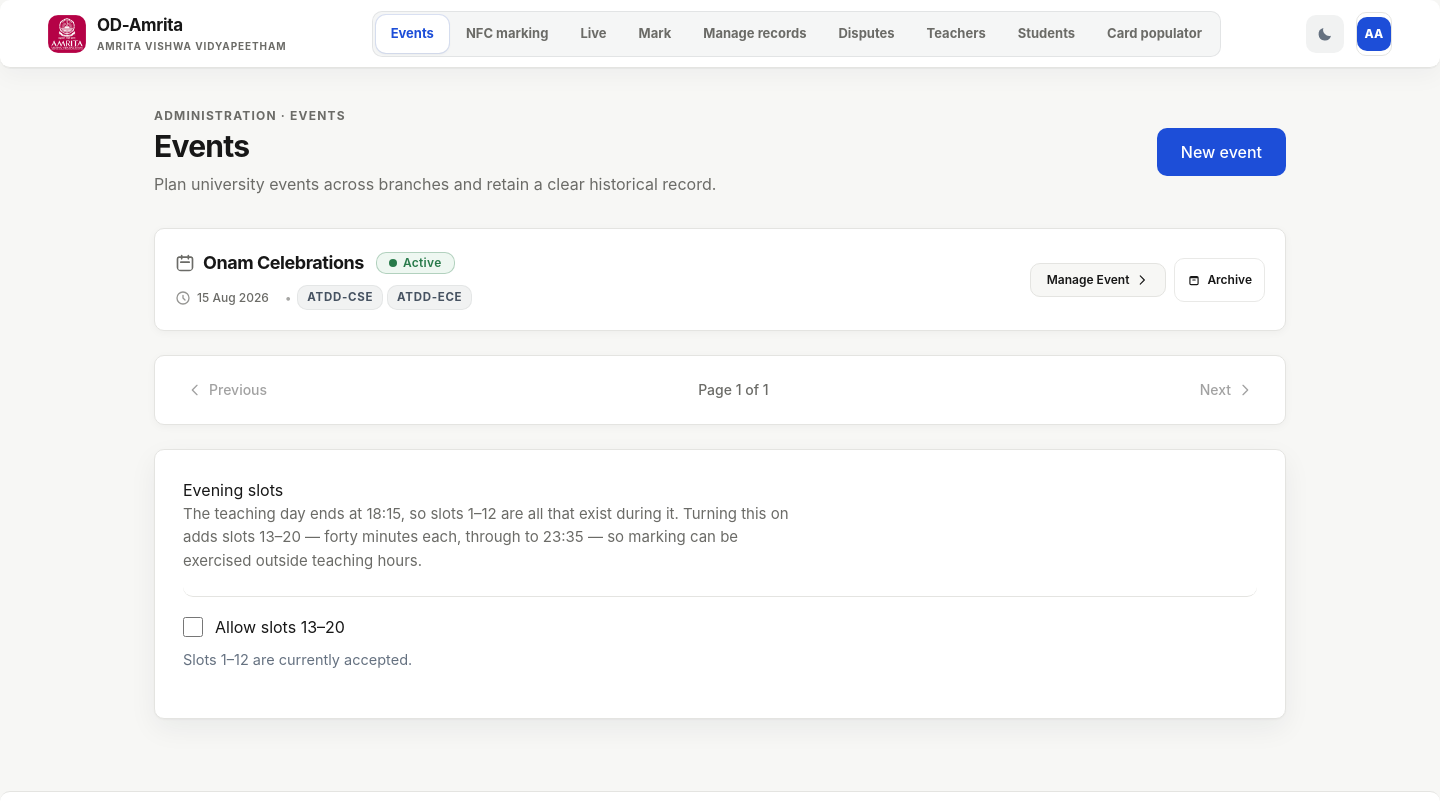
Test case: Admin event detail coordinator assignments › [P0] assigns a provisioned student by email and shows the row without a reload
This screenshot has width=1440, height=810.
Step 1. Click the link "Onam Celebrations" → coordinates (269, 263), box [175,249,364,277]
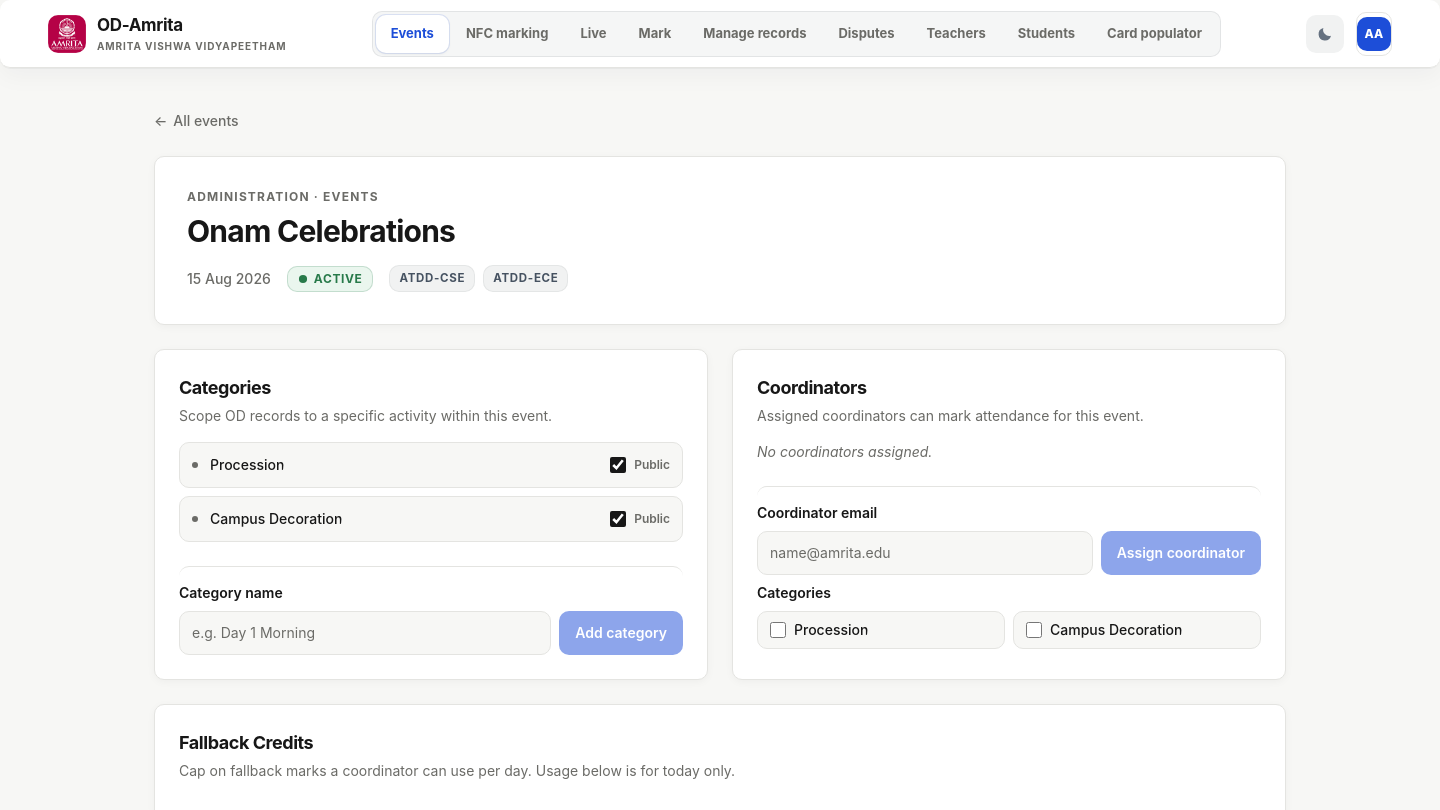
Step 2. Type "candidate@amrita.edu" into the field labelled "Coordinator email" → coordinates (925, 553), box [757,531,1093,575]
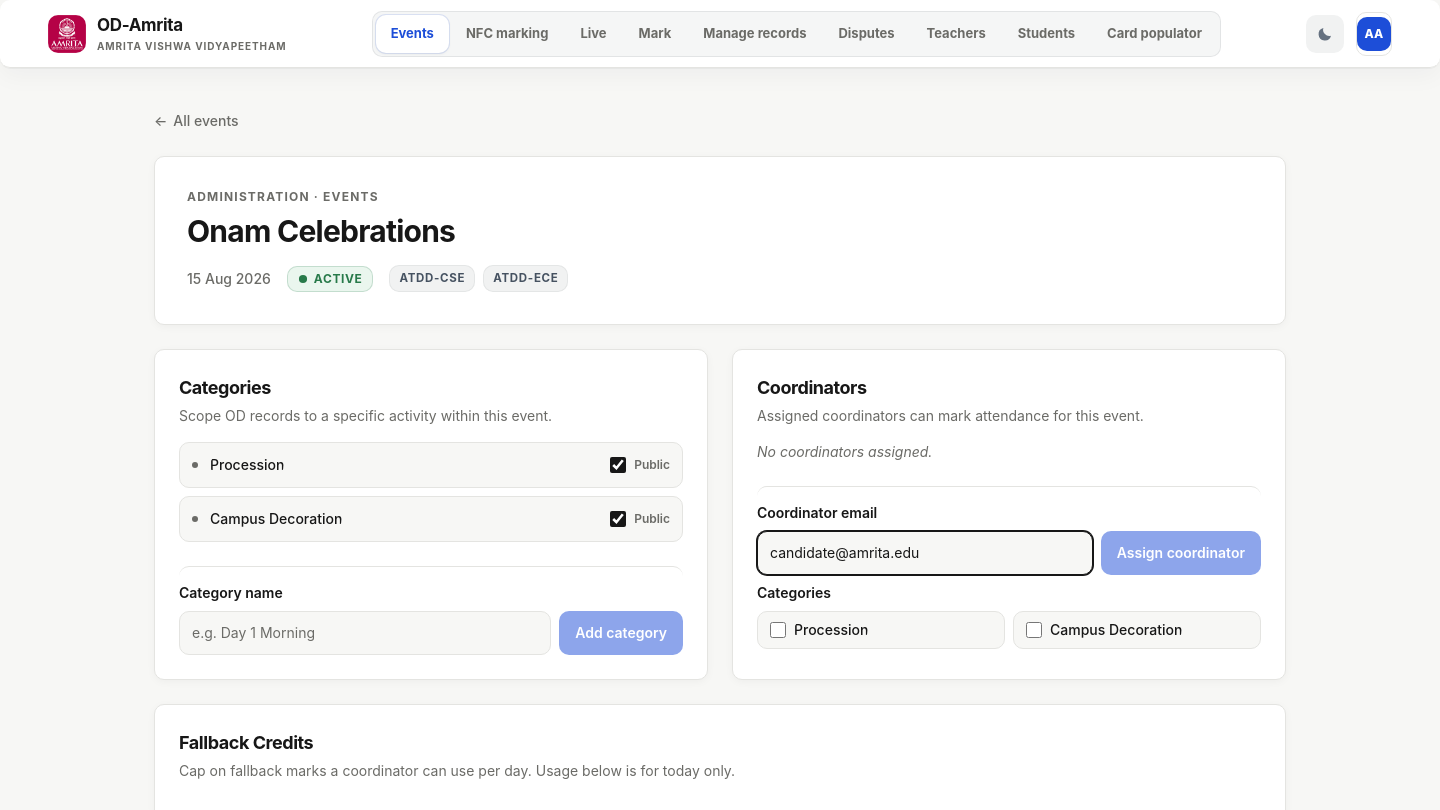
Step 3. Click the checkbox labelled "Procession" → coordinates (778, 630), box [770,622,786,638]
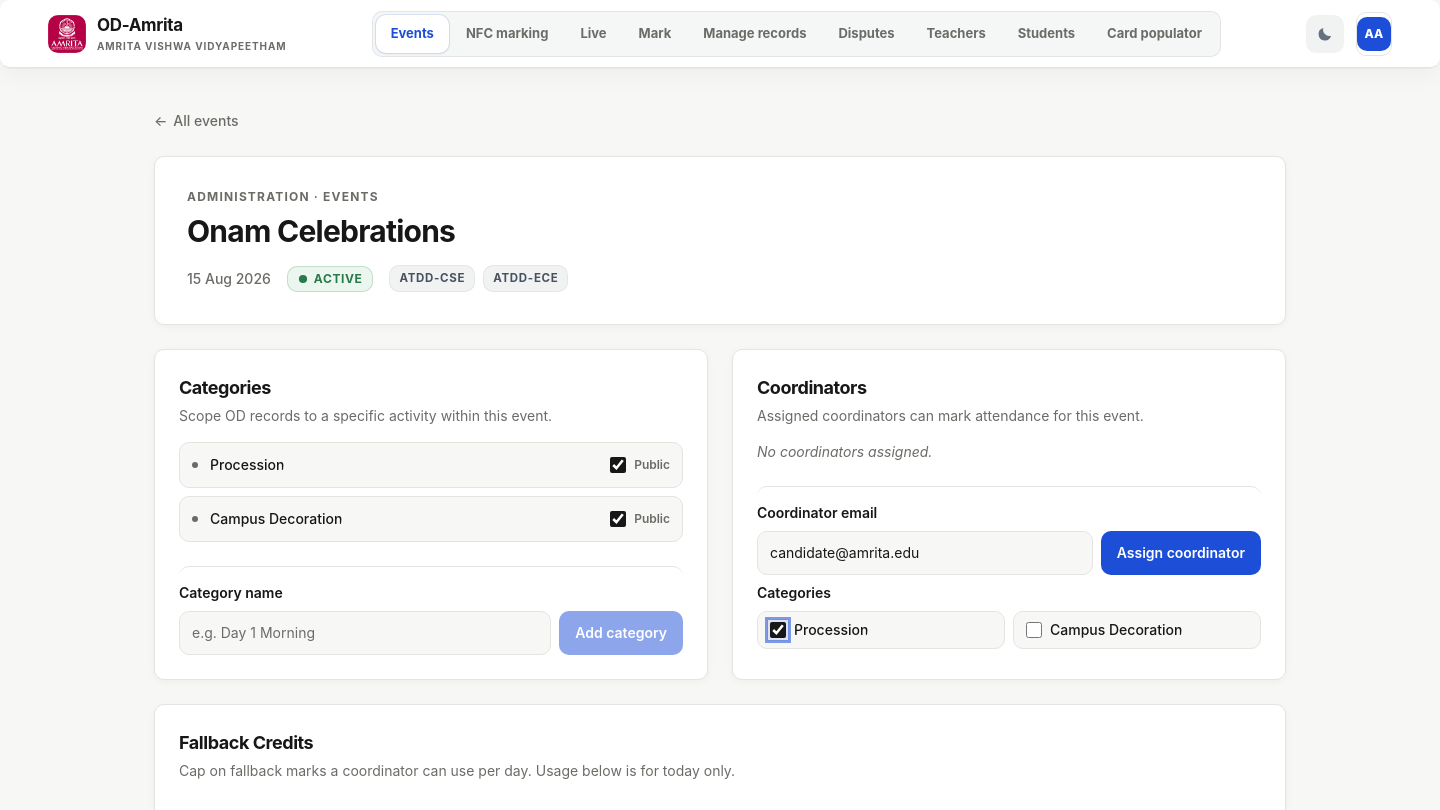
Step 4. Click the button "Assign coordinator" → coordinates (1181, 553), box [1101,531,1261,575]
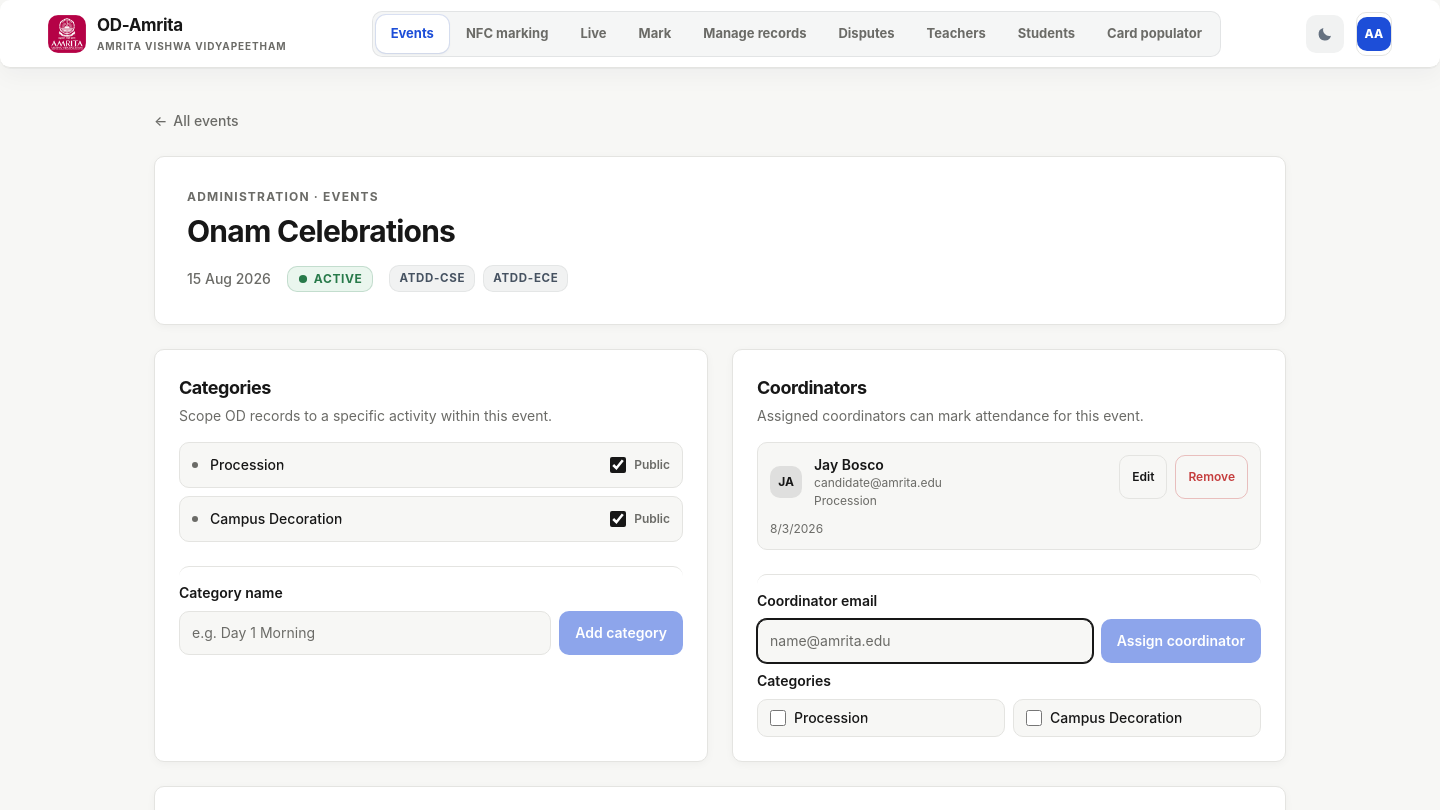
Now the text "candidate@amrita.edu" is shown, box [814,475,942,491]
